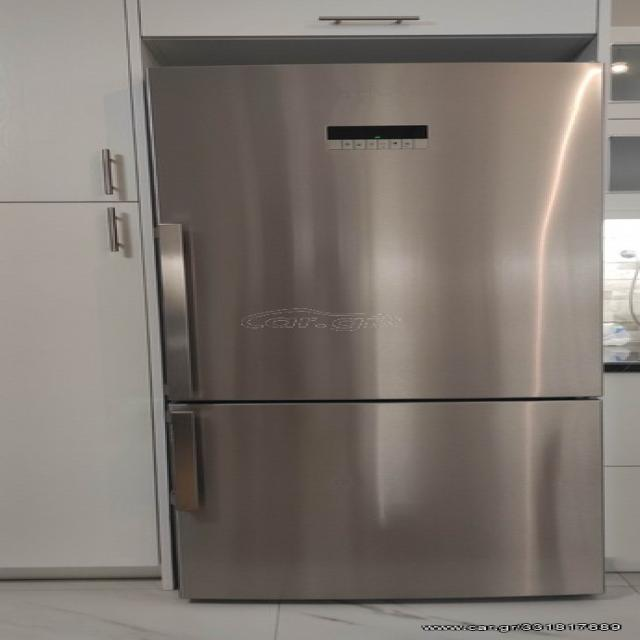refrigerator: (147, 60, 611, 610)
